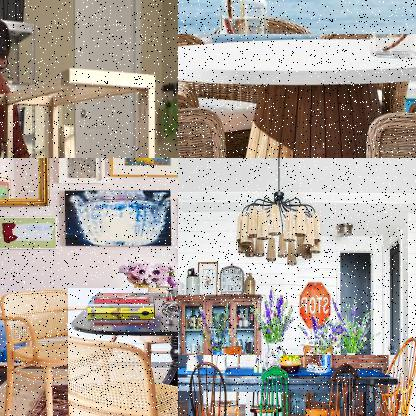table: (178, 34, 415, 157), (67, 288, 177, 415), (178, 355, 402, 415)
